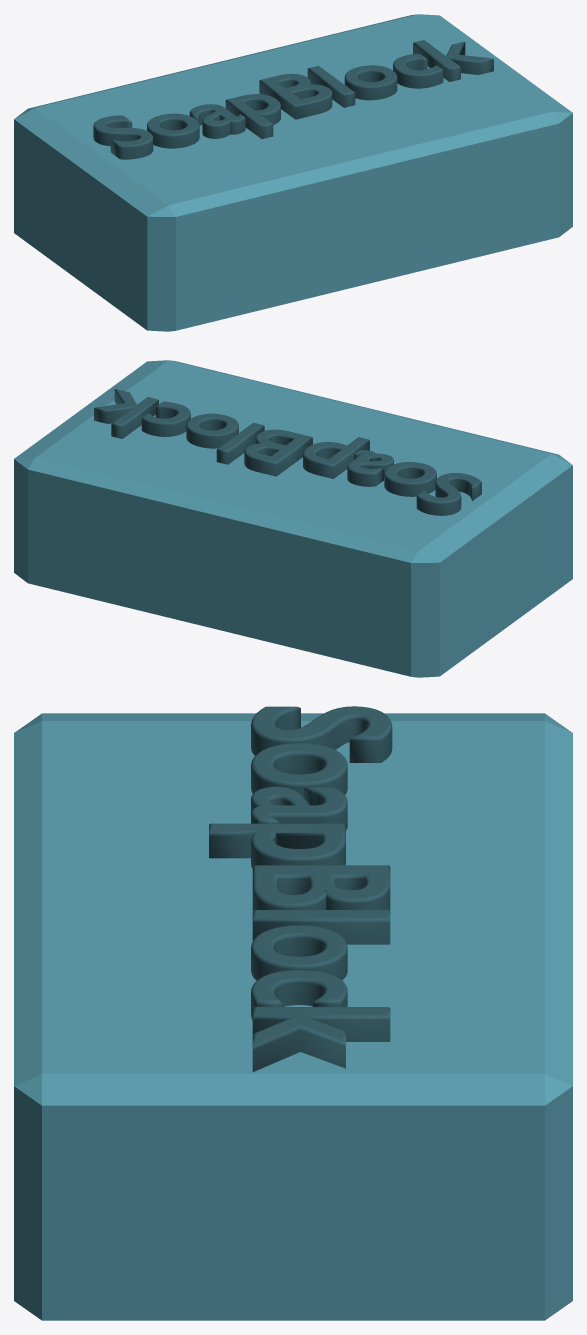
The model's file is BlueSoap.fbx.
The picture shows the model from 3 angles, top to bottom: view 1: azimuth 30°, elevation 25°; view 2: azimuth 150°, elevation 25°; view 3: azimuth 270°, elevation 25°; orthographic projection. The views are drawn at different scales.
Parts seen in each view (by area): view 1: Cube, Text; view 2: Cube, Text; view 3: Cube, Text.
Boxes of the visible parts, x1=… form: Cube: x1=14, y1=14, x2=572, y2=331; Text: x1=93, y1=40, x2=493, y2=159; Cube: x1=14, y1=360, x2=572, y2=677; Text: x1=94, y1=389, x2=481, y2=515; Cube: x1=14, y1=713, x2=572, y2=1320; Text: x1=209, y1=706, x2=392, y2=1071.
Bounding box in the file's own units: 487 × 153 × 293.
